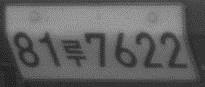1: (38, 29, 62, 69)
2: (160, 31, 191, 70), (136, 30, 163, 69)
6: (113, 31, 138, 68)
7: (84, 31, 107, 68)
8: (13, 31, 40, 69)
루: (60, 38, 86, 66)
